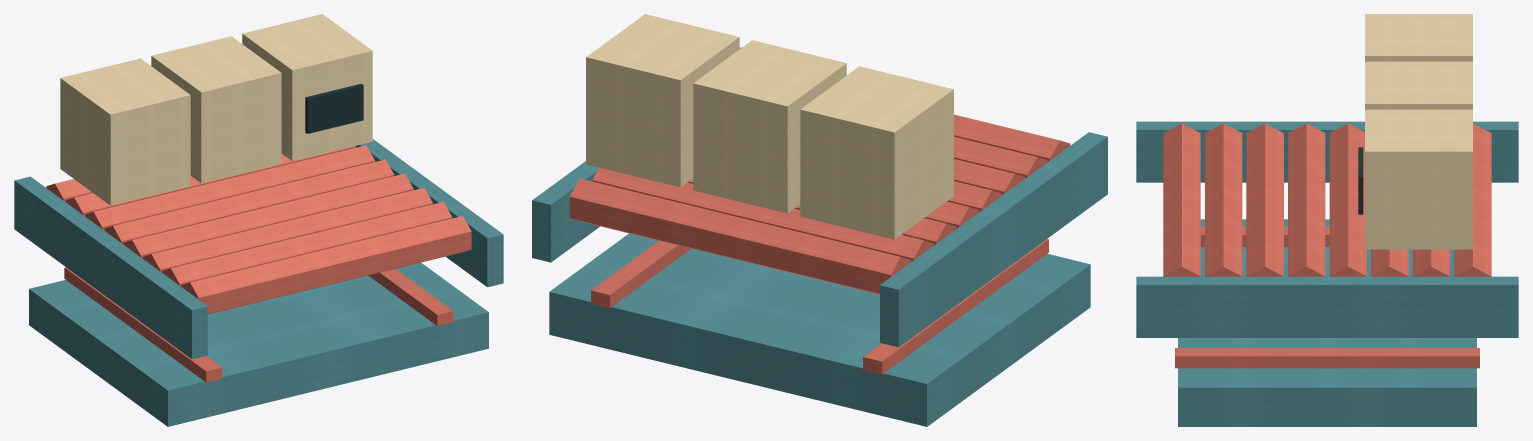
The model's file is atlas100-s074-a02.lod2.glb.
3 views of the same model, side by side, from view 1: azimuth 30°, elevation 25°; view 2: azimuth 150°, elevation 25°; view 3: azimuth 270°, elevation 25° (orthographic). The views are drawn at different scales.
Parts seen in each view (by area): view 1: atlas100-s074-a02:part-000, atlas100-s074-a02:part-013, atlas100-s074-a02:part-015, atlas100-s074-a02:part-011, atlas100-s074-a02:part-017, atlas100-s074-a02:part-010, atlas100-s074-a02:part-009, atlas100-s074-a02:part-006, atlas100-s074-a02:part-008, atlas100-s074-a02:part-005, atlas100-s074-a02:part-007, atlas100-s074-a02:part-012 (+5 smaller); view 2: atlas100-s074-a02:part-000, atlas100-s074-a02:part-013, atlas100-s074-a02:part-017, atlas100-s074-a02:part-015, atlas100-s074-a02:part-011, atlas100-s074-a02:part-003, atlas100-s074-a02:part-004, atlas100-s074-a02:part-012, atlas100-s074-a02:part-001, atlas100-s074-a02:part-002, atlas100-s074-a02:part-010, atlas100-s074-a02:part-009 (+4 smaller); view 3: atlas100-s074-a02:part-012, atlas100-s074-a02:part-000, atlas100-s074-a02:part-017, atlas100-s074-a02:part-002, atlas100-s074-a02:part-011, atlas100-s074-a02:part-007, atlas100-s074-a02:part-008, atlas100-s074-a02:part-009, atlas100-s074-a02:part-010, atlas100-s074-a02:part-015, atlas100-s074-a02:part-013, atlas100-s074-a02:part-006 (+5 smaller).
Part boxes in pixels (x1,y1,x2,y2): atlas100-s074-a02:part-000: (29, 262, 488, 426); atlas100-s074-a02:part-013: (60, 58, 190, 205); atlas100-s074-a02:part-015: (151, 36, 281, 183); atlas100-s074-a02:part-011: (14, 176, 207, 359); atlas100-s074-a02:part-017: (242, 14, 372, 161); atlas100-s074-a02:part-010: (181, 216, 471, 314); atlas100-s074-a02:part-009: (162, 202, 452, 286); atlas100-s074-a02:part-006: (104, 159, 394, 244); atlas100-s074-a02:part-008: (142, 187, 432, 272); atlas100-s074-a02:part-005: (85, 145, 375, 229); atlas100-s074-a02:part-007: (123, 173, 413, 258); atlas100-s074-a02:part-012: (355, 139, 503, 287); atlas100-s074-a02:part-000: (549, 233, 1090, 426); atlas100-s074-a02:part-013: (800, 66, 953, 239); atlas100-s074-a02:part-017: (586, 14, 739, 187); atlas100-s074-a02:part-015: (693, 40, 846, 213); atlas100-s074-a02:part-011: (880, 132, 1107, 347); atlas100-s074-a02:part-003: (569, 178, 911, 294); atlas100-s074-a02:part-004: (592, 167, 933, 261); atlas100-s074-a02:part-012: (532, 47, 741, 262); atlas100-s074-a02:part-001: (863, 239, 1048, 374); atlas100-s074-a02:part-002: (591, 240, 690, 308); atlas100-s074-a02:part-010: (954, 114, 1070, 161); atlas100-s074-a02:part-009: (954, 136, 1047, 178); atlas100-s074-a02:part-012: (1136, 276, 1518, 337); atlas100-s074-a02:part-000: (1178, 219, 1476, 426); atlas100-s074-a02:part-017: (1365, 109, 1472, 249); atlas100-s074-a02:part-002: (1175, 348, 1479, 368); atlas100-s074-a02:part-011: (1136, 121, 1518, 182); atlas100-s074-a02:part-007: (1288, 123, 1325, 276); atlas100-s074-a02:part-008: (1246, 123, 1283, 276); atlas100-s074-a02:part-009: (1205, 123, 1242, 276); atlas100-s074-a02:part-010: (1163, 123, 1200, 276); atlas100-s074-a02:part-015: (1365, 61, 1472, 109); atlas100-s074-a02:part-013: (1365, 14, 1472, 61); atlas100-s074-a02:part-006: (1329, 123, 1366, 276).
Size of the model in its own units: 2.4 by 1.73 by 2.3.
Materials: 4 (4 with a texture image).
